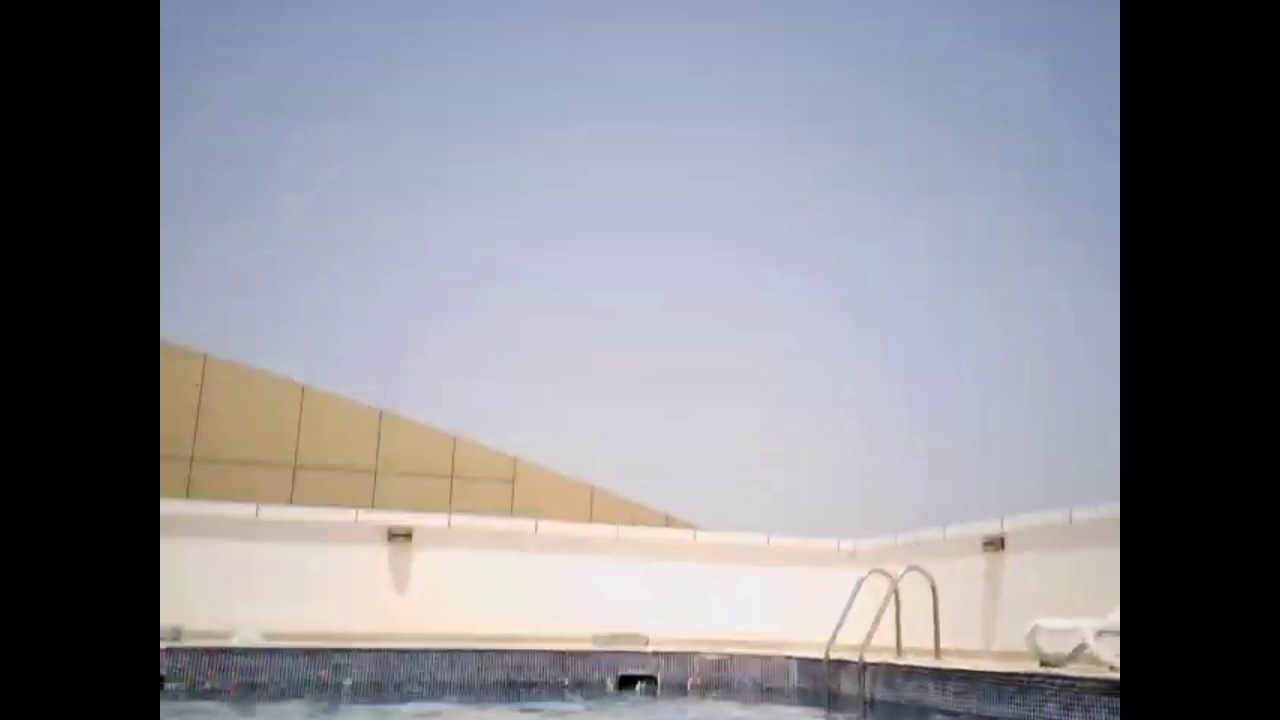debris: (631, 679, 649, 696)
